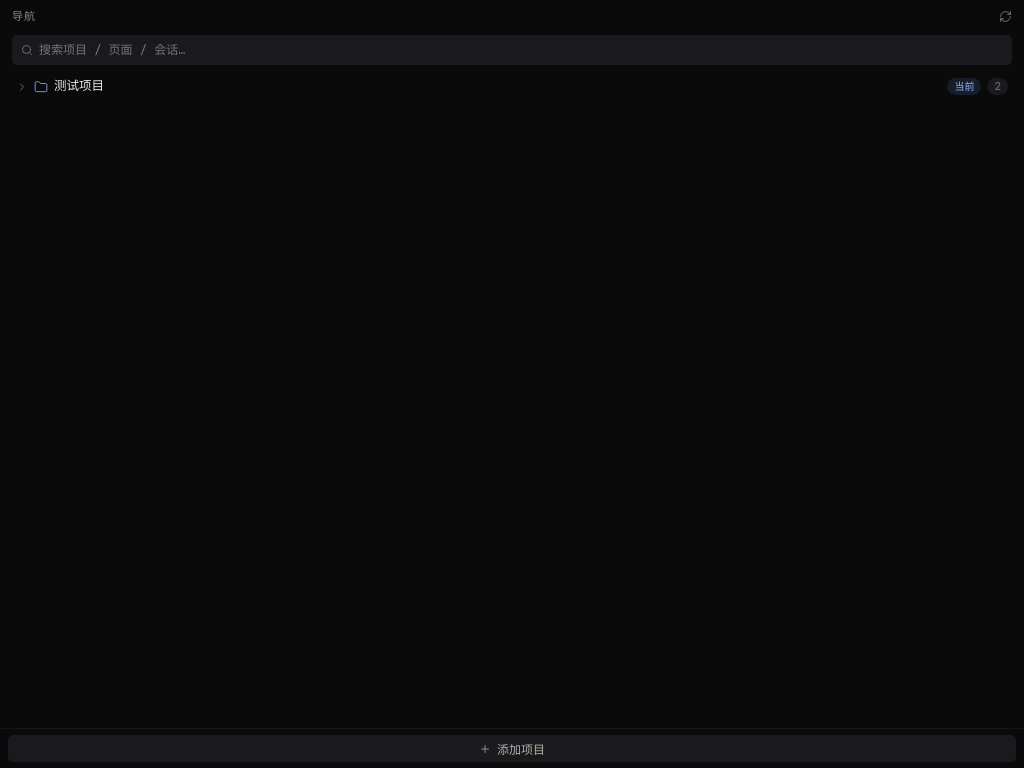
it: 三级层级渲染（项目→页面→会话） › 种子 1 项目 2 页面 + 1 活跃会话 → 三级行各按其数量渲染
Click the element with test id "nav-row-project". click: (79, 86)
box: [8,72,1016,100]
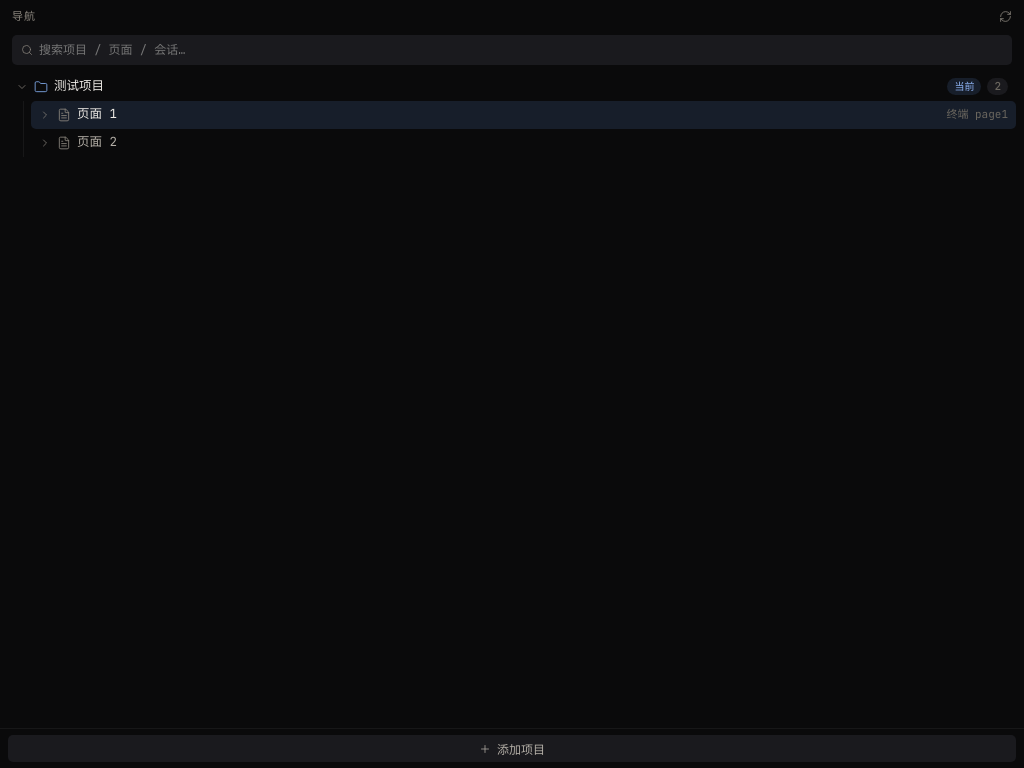
Click the element with test id "nav-row-page". click: (524, 114)
box: [31,100,1016,128]
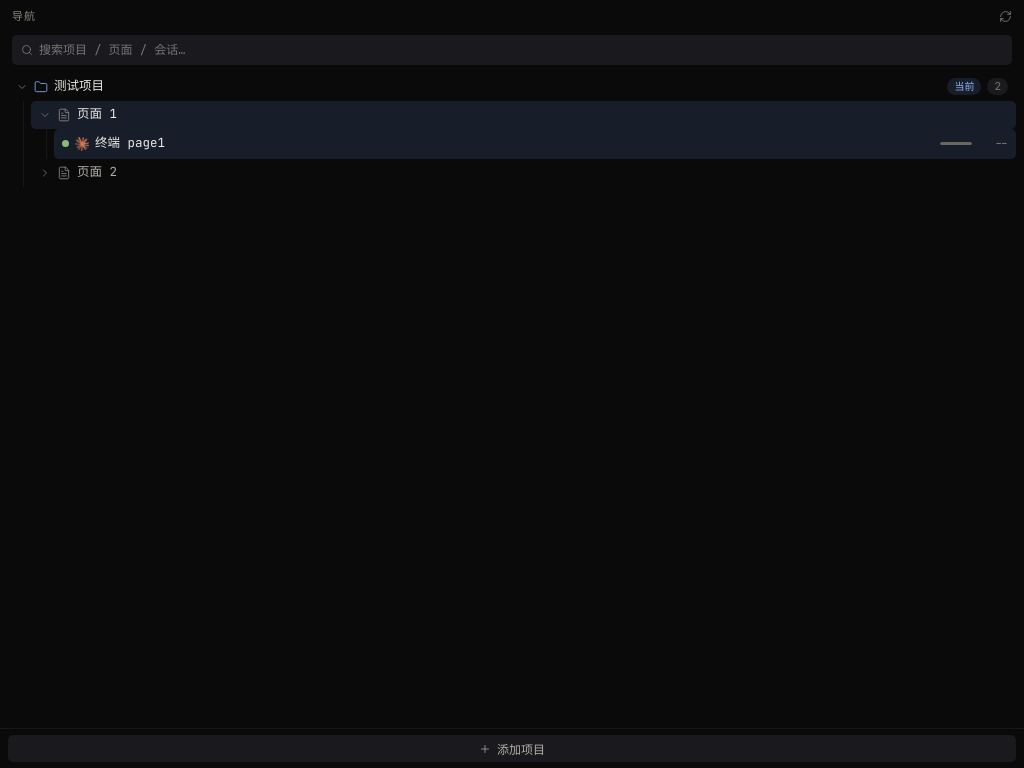
Expected: the element with test id "nav-row-session" shows "终端 page1", [95,134,165,151]
